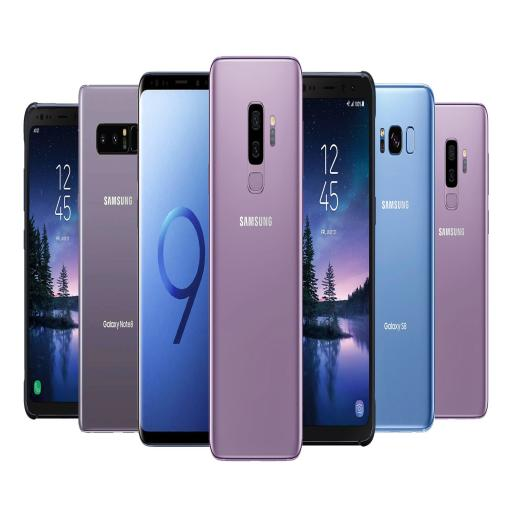phone: (210, 57, 301, 457)
